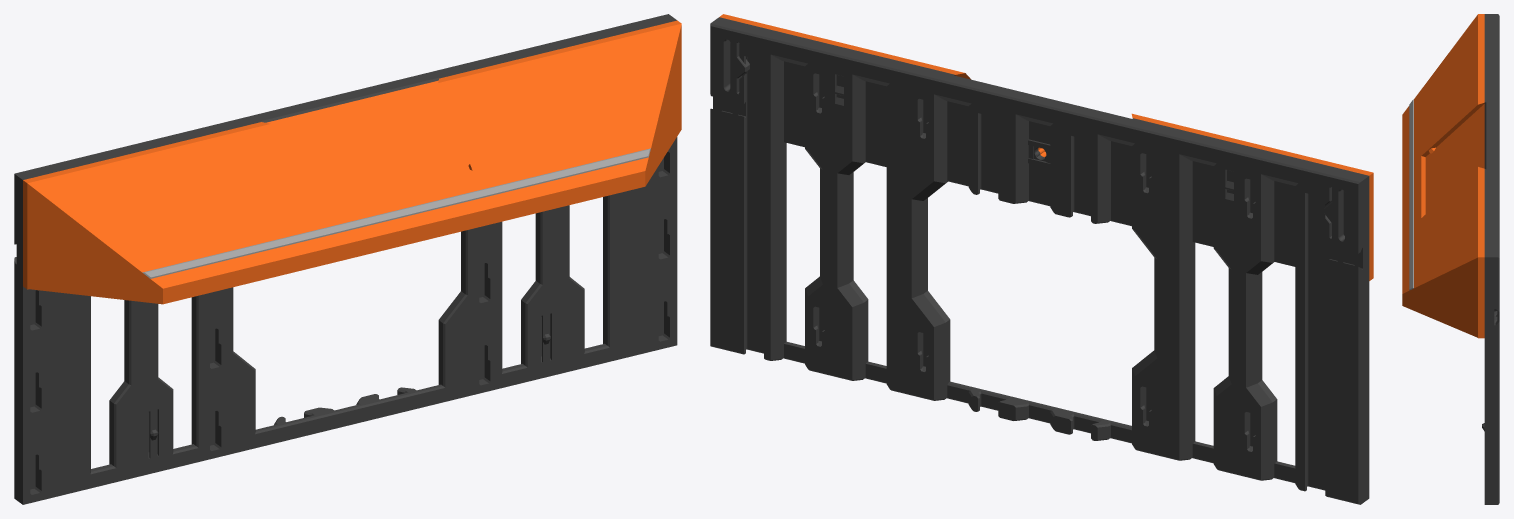
The model's file is Faceplate_ClassicPro_2W-15H.lib.glb.
3 renders of one model, left to right at view 1: azimuth 30°, elevation 25°; view 2: azimuth 150°, elevation 25°; view 3: azimuth 270°, elevation 25°, orthographic. The views are drawn at different scales.
Visible parts, largest first — view 1: Faceplate_ClassicPro_2W-15H; view 2: Faceplate_ClassicPro_2W-15H; view 3: Faceplate_ClassicPro_2W-15H.
Boxes of the visible parts, left/top/right/bottom form: Faceplate_ClassicPro_2W-15H: left=14, top=14, right=681, bottom=504; Faceplate_ClassicPro_2W-15H: left=710, top=14, right=1373, bottom=504; Faceplate_ClassicPro_2W-15H: left=1402, top=14, right=1499, bottom=504.
Size of the model in its own units: 175 by 83 by 29.5.
